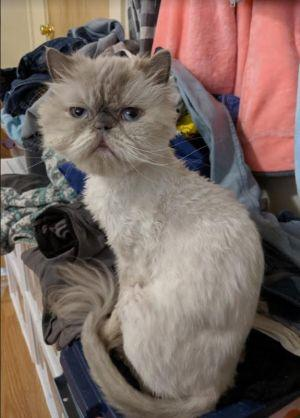persian: (33, 33, 187, 188)
